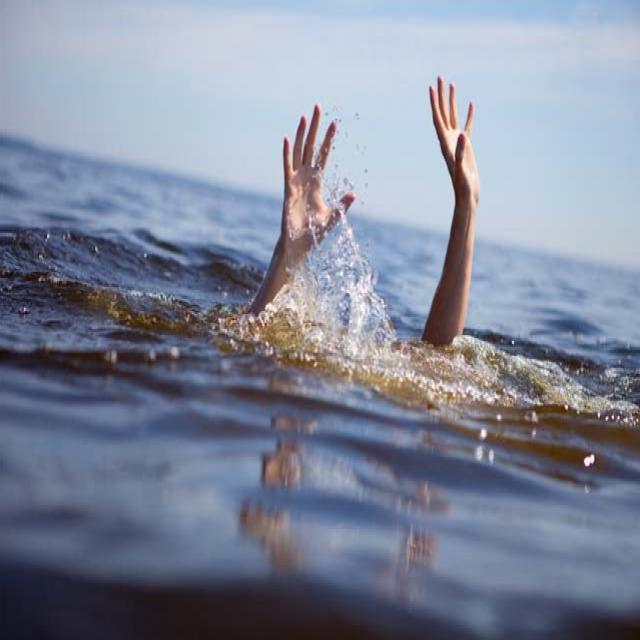Out of Water: (222, 73, 488, 398)
